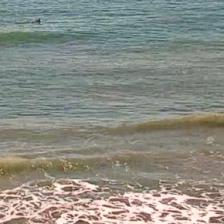surfer: (30, 18, 43, 23)
